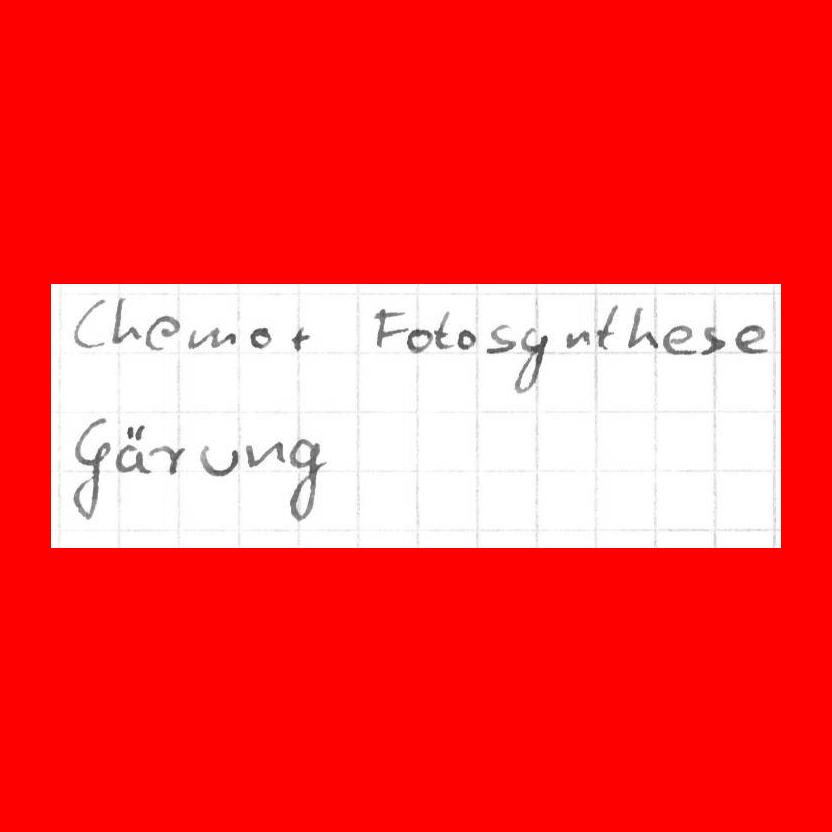Char: (68, 415, 113, 521), (284, 432, 328, 523), (514, 323, 547, 393), (112, 419, 151, 476), (70, 296, 111, 348), (109, 295, 143, 346), (625, 305, 662, 351), (146, 439, 188, 478), (372, 306, 407, 352), (196, 443, 241, 477), (146, 313, 183, 353), (658, 322, 698, 356), (594, 302, 620, 351), (187, 327, 238, 351), (244, 440, 289, 467), (734, 322, 769, 355), (485, 322, 517, 354), (699, 324, 727, 357), (434, 310, 452, 351), (404, 327, 433, 352), (249, 325, 276, 350), (290, 326, 313, 352), (565, 328, 592, 349), (455, 329, 480, 350)
